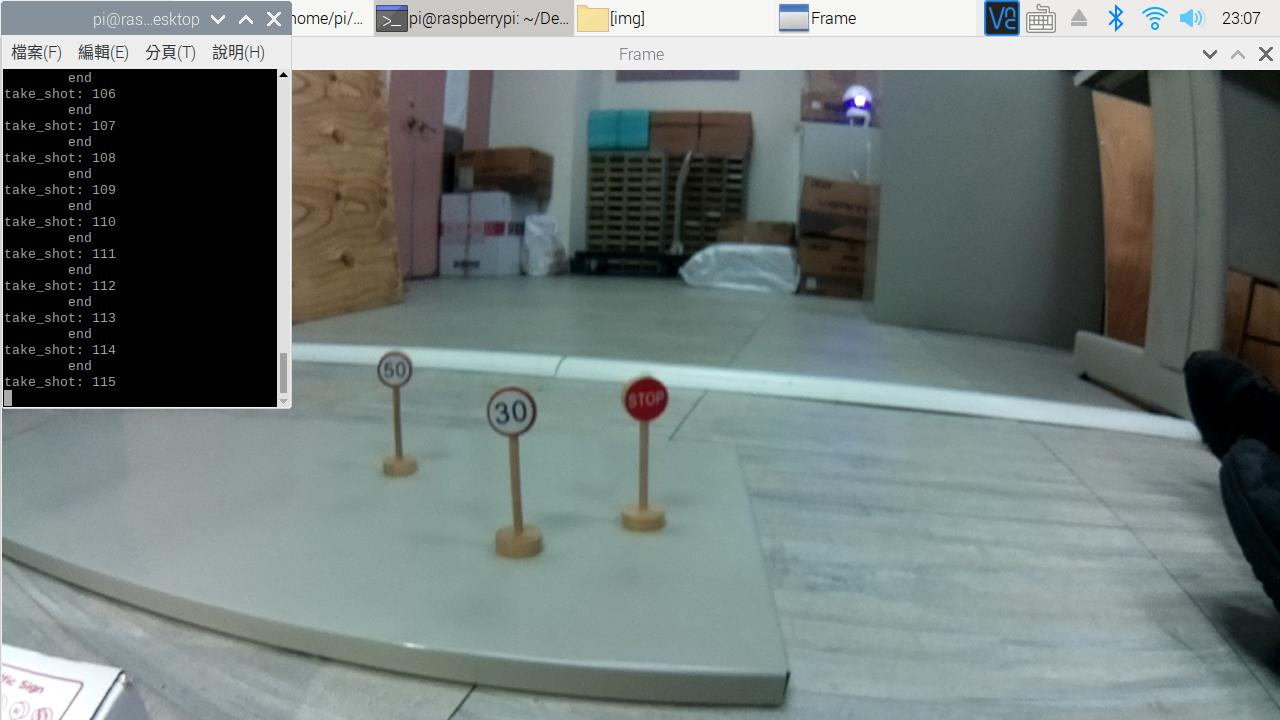Speed30: (481, 379, 544, 442)
Speed50: (376, 343, 422, 400)
Stop: (614, 370, 676, 429)
